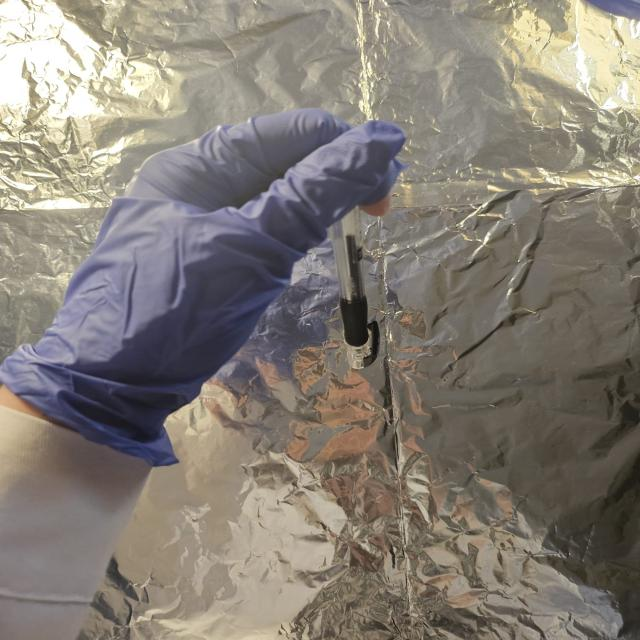gloves_damaged: (0, 106, 409, 467)
